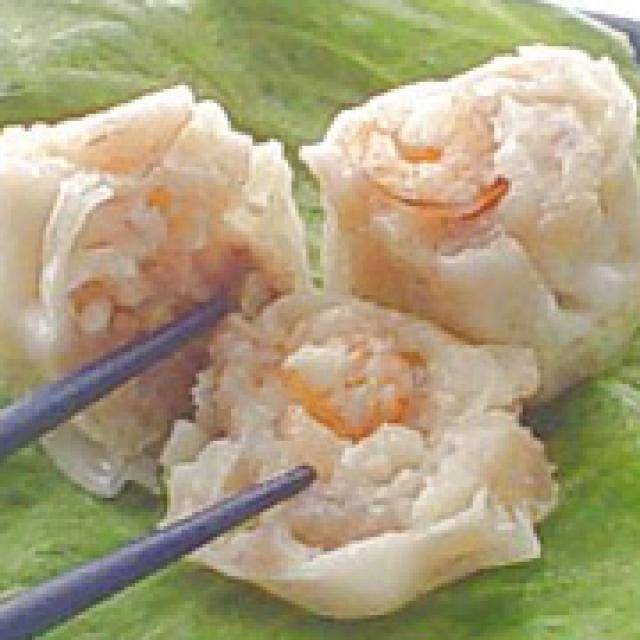带馅早点: (0, 32, 640, 597)
